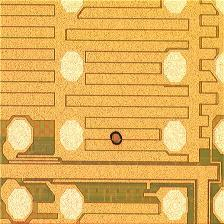PARTICLE: (105, 128, 128, 151)
